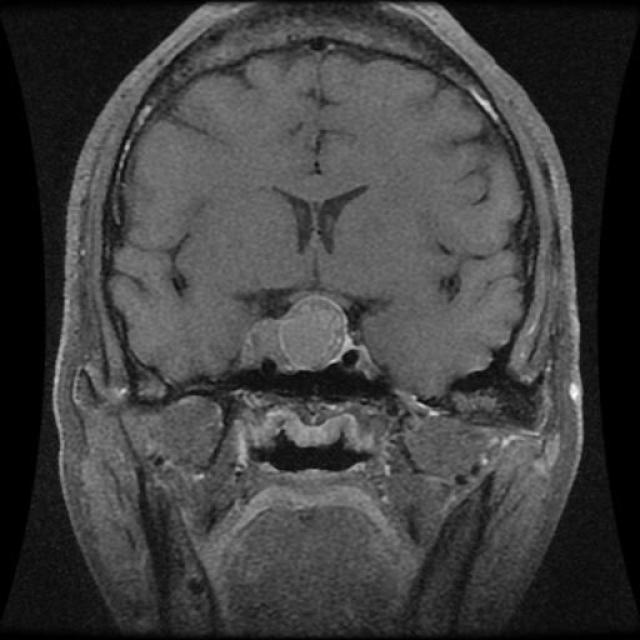pituitary: (266, 280, 378, 384)
